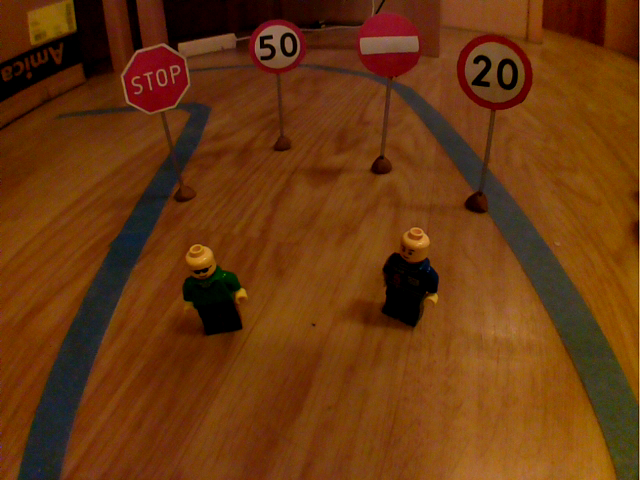Ograniczenie 20: (452, 30, 536, 114)
Ograniczenie 50: (245, 15, 310, 78)
Postac LEGO: (371, 221, 447, 333), (174, 240, 255, 344)
Stop: (117, 39, 194, 119)
Zakaz: (352, 9, 426, 80)
